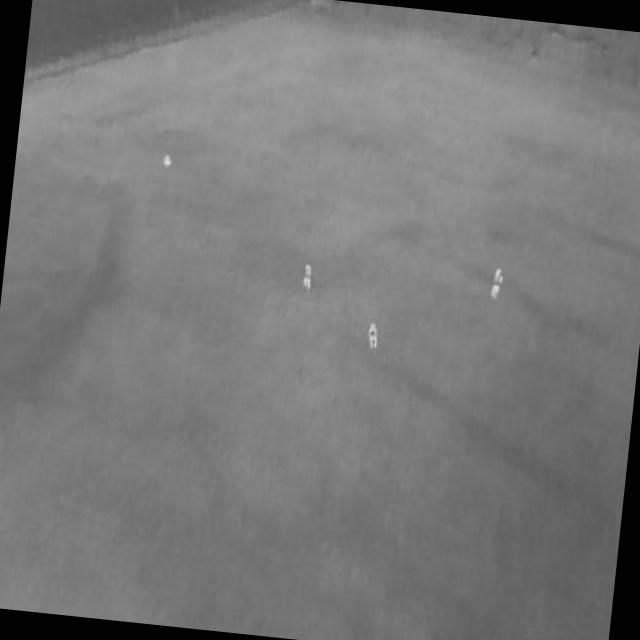person: (489, 267, 506, 301), (367, 322, 381, 351), (301, 263, 314, 292), (161, 152, 174, 168)
